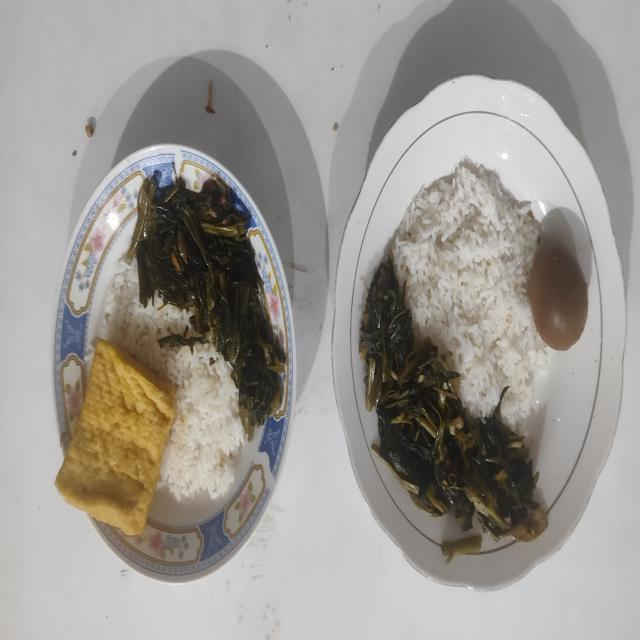nasi_putih: (390, 162, 549, 430), (100, 260, 248, 500)
tahu_goreng: (56, 339, 176, 535)
tumis_kangkung: (360, 256, 548, 545), (127, 170, 287, 440)
